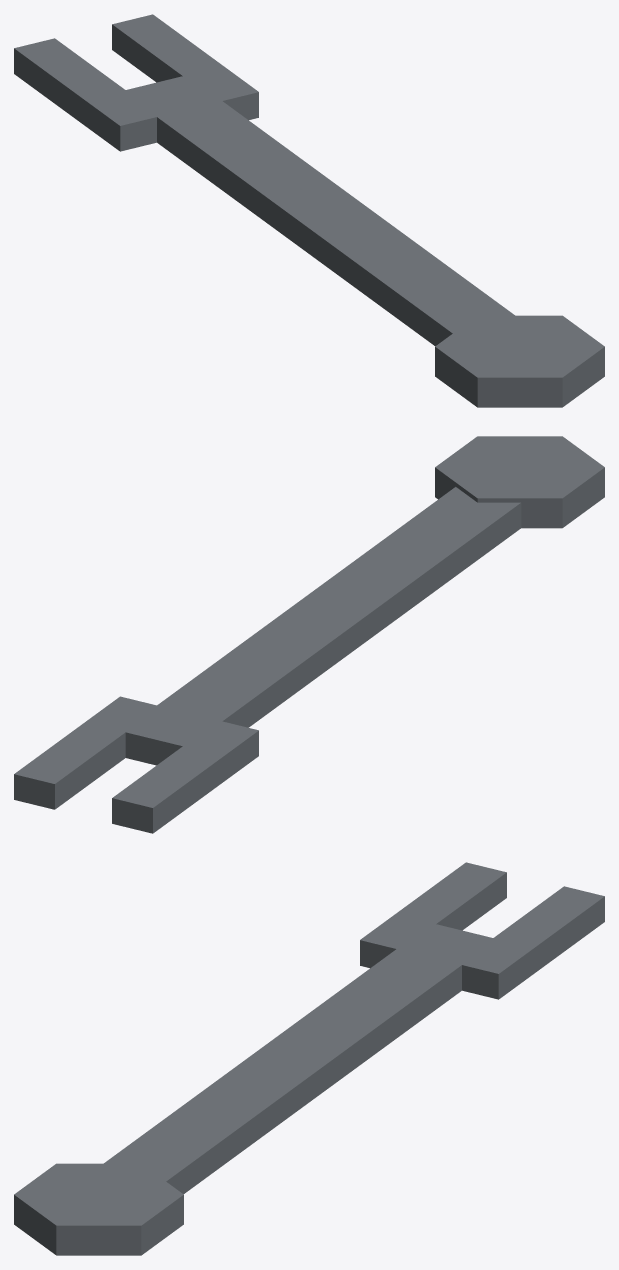
File: NPC_Mechanic_Held.glb
The picture shows the model from 3 angles, top to bottom: view 1: azimuth 30°, elevation 25°; view 2: azimuth 150°, elevation 25°; view 3: azimuth 330°, elevation 25°; orthographic projection.
Parts seen in each view (by area): view 1: CHR_Mechanic_Wrench; view 2: CHR_Mechanic_Wrench; view 3: CHR_Mechanic_Wrench.
Boxes of the visible parts, x1,y1,x2,y2 form: CHR_Mechanic_Wrench: (14, 14, 604, 407); CHR_Mechanic_Wrench: (14, 436, 604, 833); CHR_Mechanic_Wrench: (14, 862, 604, 1255).
Size of the model in its own units: 0.0748 by 0.0154 by 0.4466.
1 material, 1 textured.
